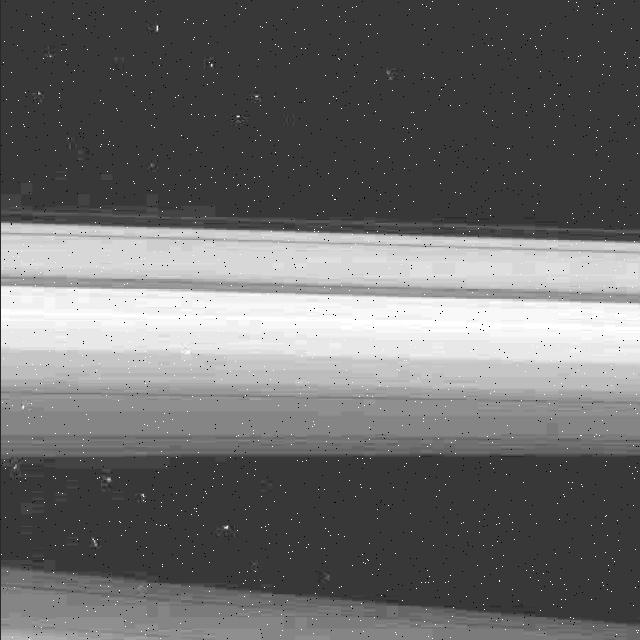Saturn: (0, 213, 640, 640)
